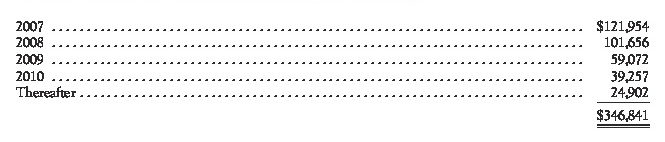table: (0, 0, 665, 142)
